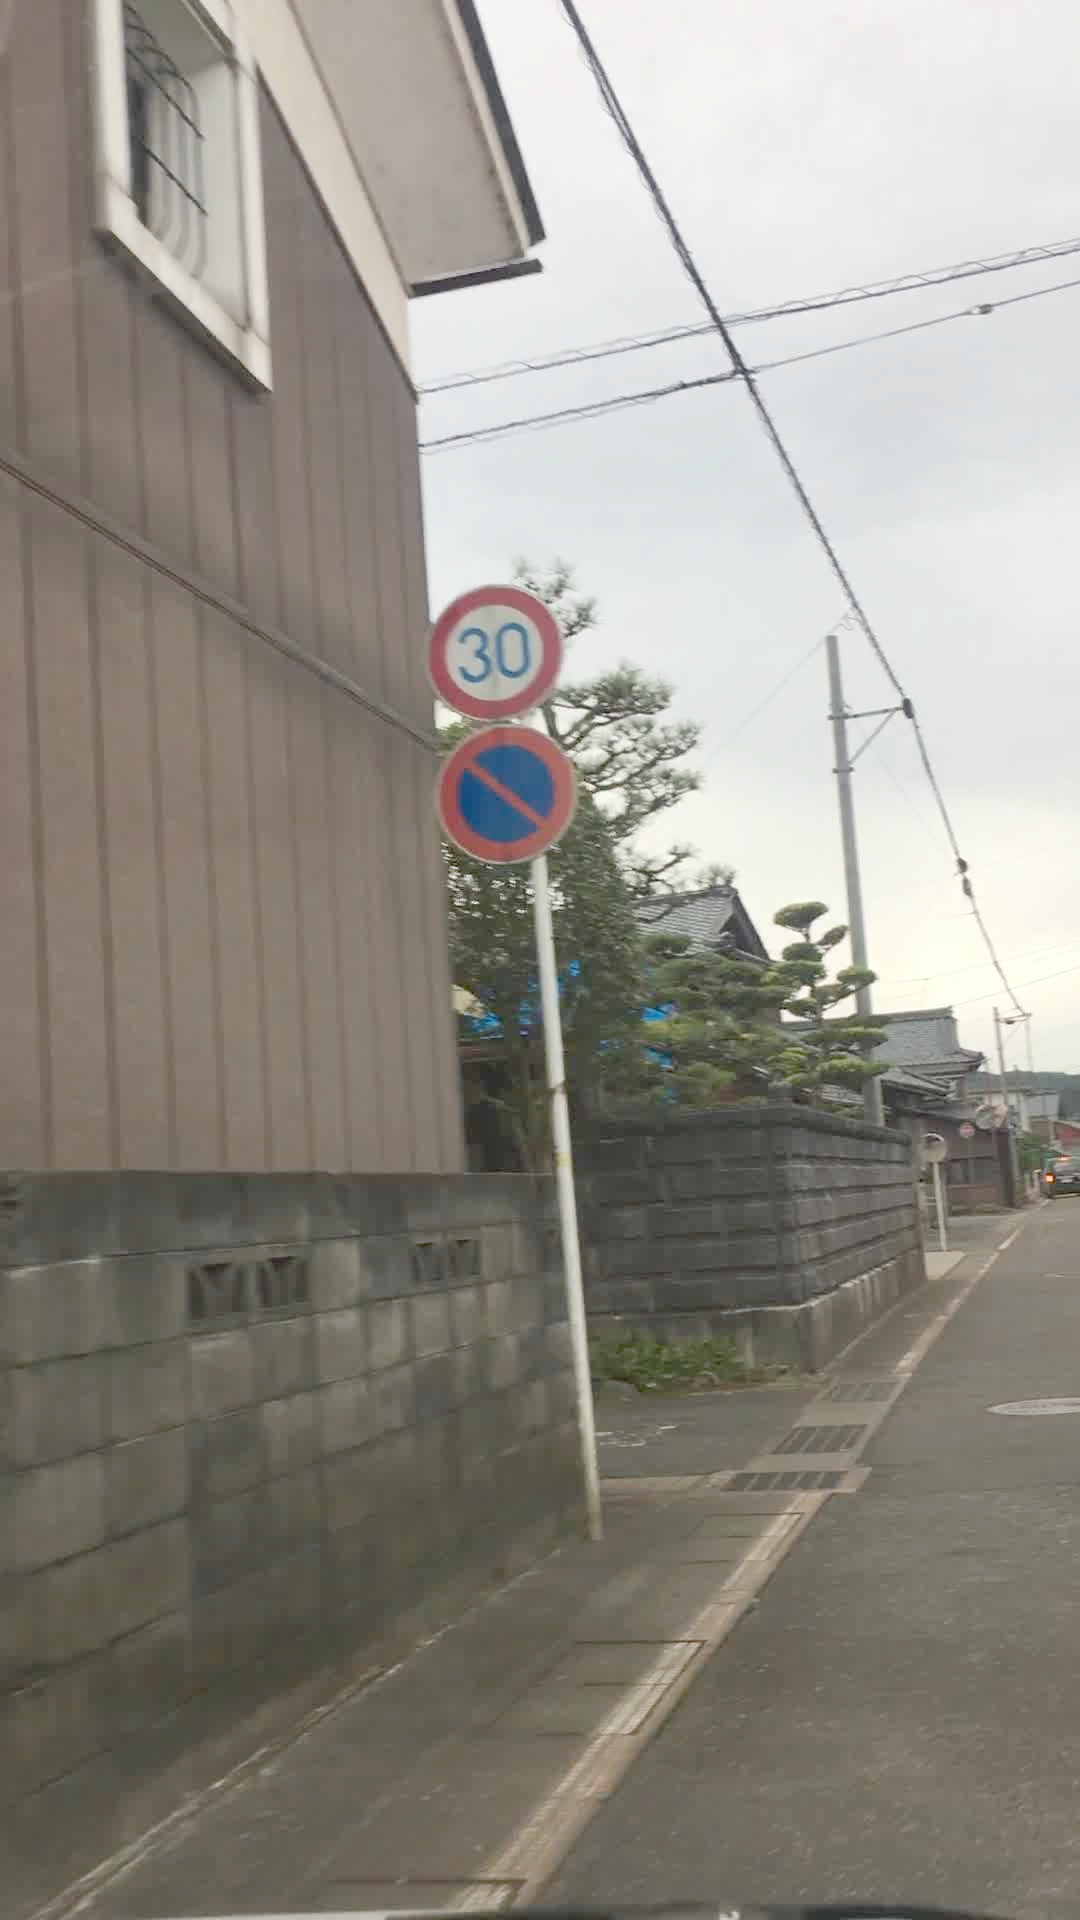Prohibition_sign: (444, 732, 560, 862)
Speed_sign: (418, 584, 578, 727)
